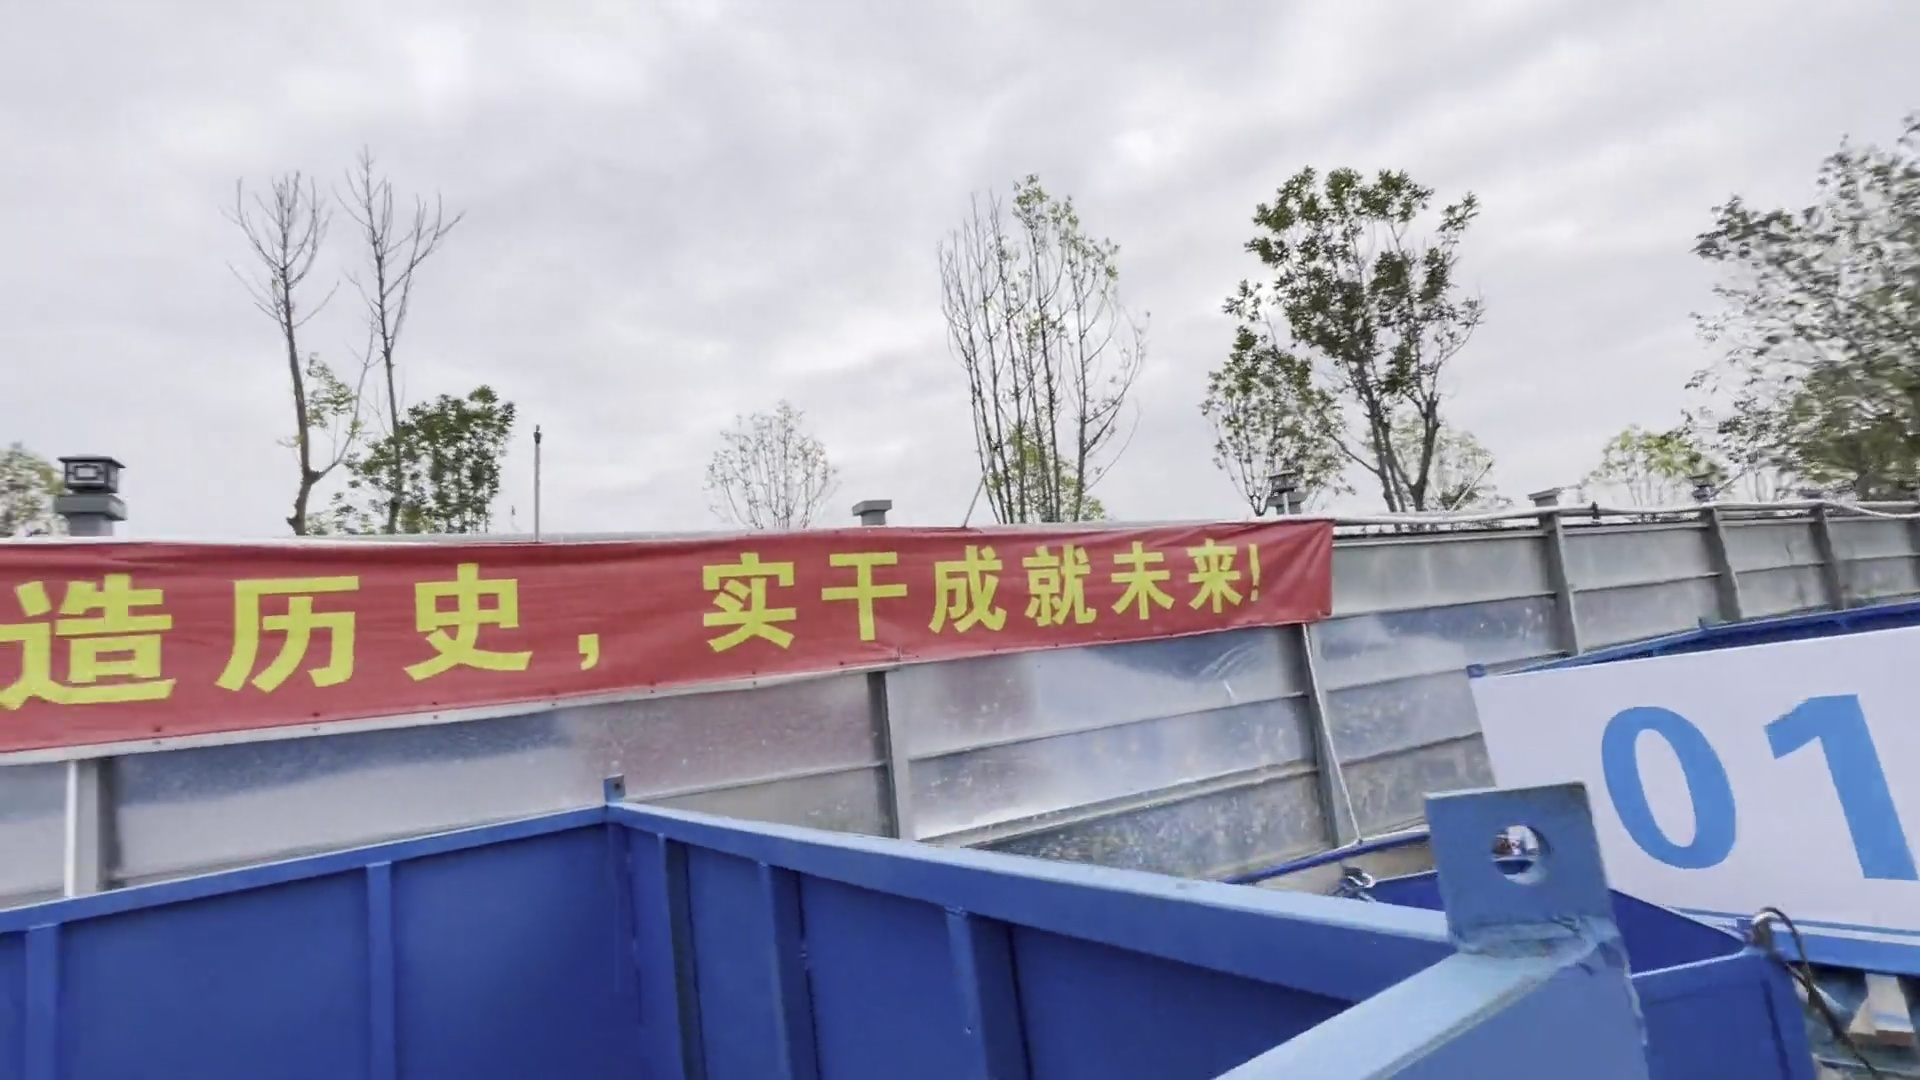slogan: (32, 520, 1317, 686)
